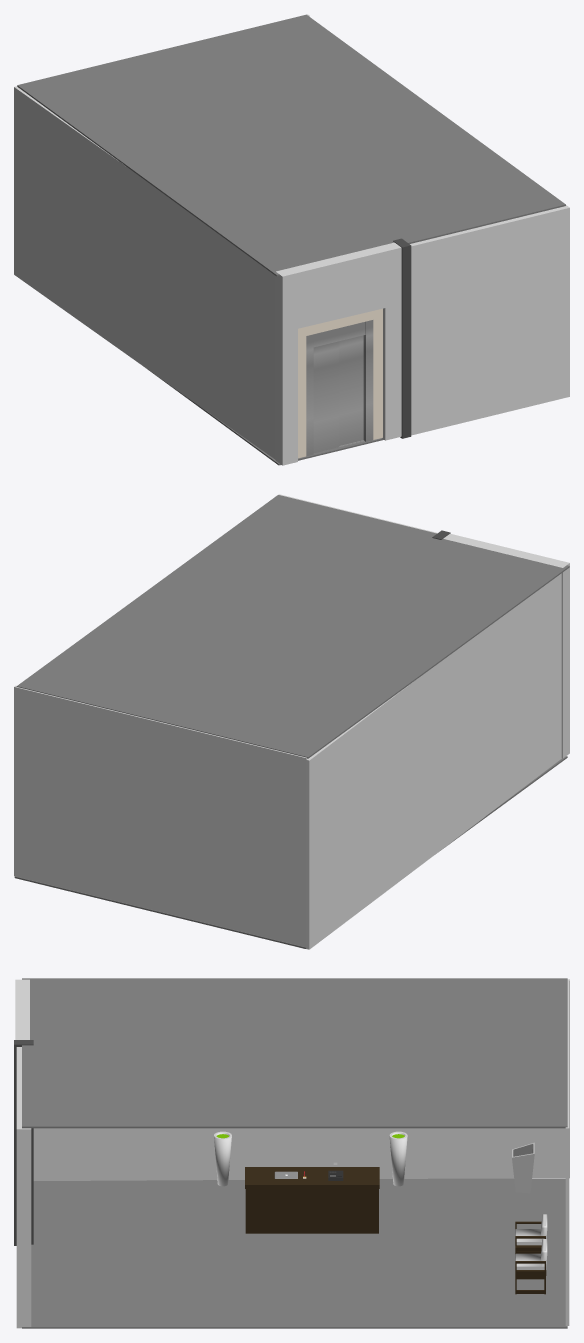
File: reception.glb
3 renders of one model, top to bottom at view 1: azimuth 30°, elevation 25°; view 2: azimuth 150°, elevation 25°; view 3: azimuth 270°, elevation 25°, orthographic. The views are drawn at different scales.
Visible parts, largest first — view 1: Floor.006, Wall_Small.003, Wall_Standard.001, Wall_Standard_Door.001, right-door_Cube.001, wooden-frame_Cube.003, metallic-frame_Cube.002, Wall_Standard_Sep.001, Floor.001; view 2: Floor.006, Wall_Small.001, Wall_Small.003, Wall_Standard_Door.001, Floor.001; view 3: Floor.006, Floor.001, Wall_Small.003, Office_Desk_3_Alt.003, Wall_Standard.001, Wall_Small.001, Chair_B.002, Wall_Standard_Sep.001, TrashBin.001, Wall_Standard_Door.001, Chair_B.001, Nature_Deco_2.002 (+1 smaller).
Part boxes in pixels (<box>): Floor.006: <box>17,14,565,276</box>; Wall_Small.003: <box>14,86,275,459</box>; Wall_Standard.001: <box>400,205,569,437</box>; Wall_Standard_Door.001: <box>275,242,401,465</box>; right-door_Cube.001: <box>313,335,363,453</box>; wooden-frame_Cube.003: <box>298,308,382,458</box>; metallic-frame_Cube.002: <box>306,320,373,456</box>; Wall_Standard_Sep.001: <box>393,238,411,438</box>; Floor.001: <box>149,370,383,465</box>; Floor.006: <box>16,495,569,758</box>; Wall_Small.001: <box>14,685,307,947</box>; Wall_Small.003: <box>306,573,561,949</box>; Wall_Standard_Door.001: <box>443,533,569,758</box>; Floor.001: <box>14,756,567,948</box>; Floor.006: <box>22,978,567,1128</box>; Floor.001: <box>22,1178,567,1328</box>; Wall_Small.003: <box>33,979,569,1180</box>; Office_Desk_3_Alt.003: <box>245,1167,379,1233</box>; Wall_Standard.001: <box>16,1047,31,1328</box>; Wall_Small.001: <box>565,979,569,1325</box>; Chair_B.002: <box>515,1239,547,1294</box>; Wall_Standard_Sep.001: <box>14,1040,33,1245</box>; TrashBin.001: <box>512,1142,534,1193</box>; Wall_Standard_Door.001: <box>15,979,29,1039</box>; Chair_B.001: <box>515,1214,547,1253</box>; Nature_Deco_2.002: <box>389,1131,407,1186</box>.
Bounding box in the file's own units: 4.88 × 3.04 × 7.6.
Materials: 15 (11 with a texture image).
